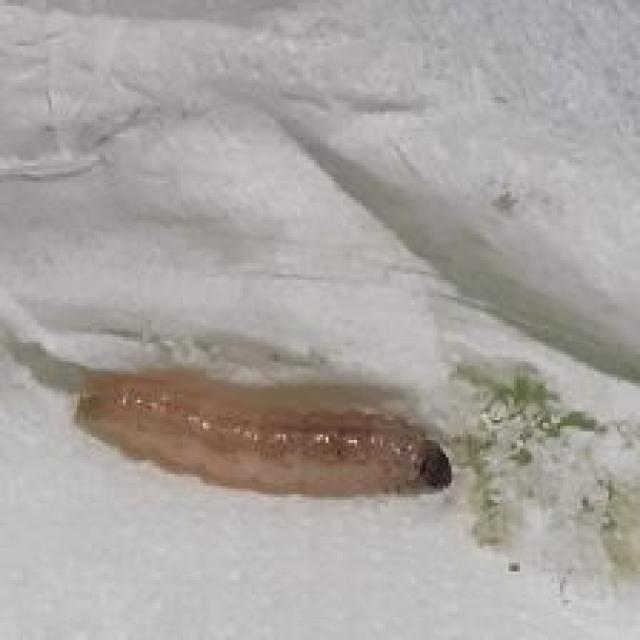white mucus: (69, 368, 474, 502)
